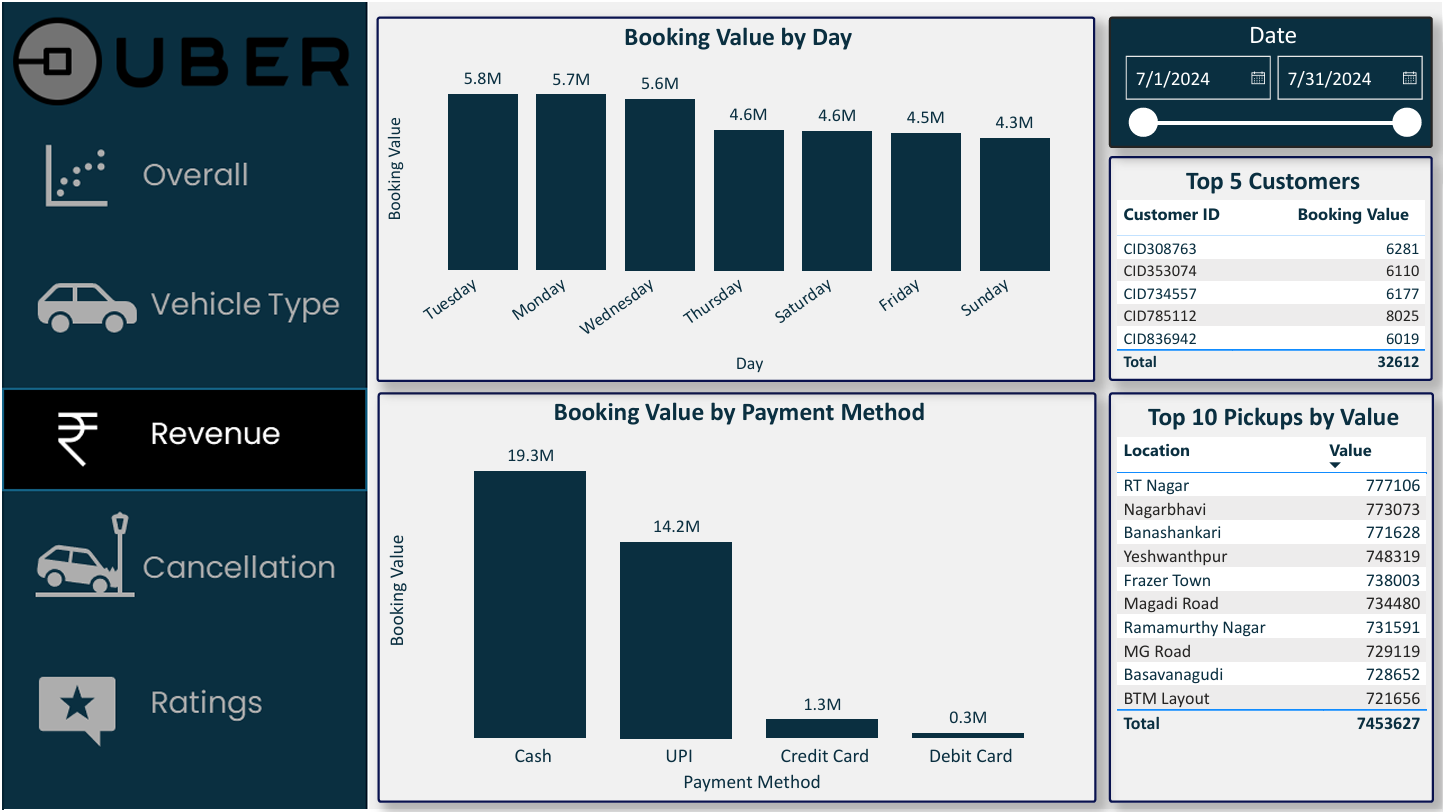

This screenshot's page, from the dashboard's own definition file:
{"tool":"powerbi","page":{"name":"Revenue","canvas":[1280,720],"ordinal":2},"visuals":[{"type":"actionButton","box":[0,108.4,322.5,89.2],"z":0},{"type":"actionButton","box":[0,236,322.5,89.2],"z":1000},{"type":"actionButton","box":[0,577.7,322.5,89.2],"z":2000},{"type":"actionButton","box":[0,447.3,322.5,89.2],"z":3000},{"type":"columnChart","title":"Booking Value by Payment Method","fields":{"Y":["Sum(Bookings.Booking_Value)"],"Category":["Bookings.Payment_Method"]},"box":[333,346.2,639.4,364.3],"z":4000},{"type":"columnChart","title":"Booking Value by Day","fields":{"Y":["Sum(Bookings.Booking_Value)"],"Category":["Bookings.DayName"]},"box":[331.8,12.1,639.4,324.5],"z":5000},{"type":"slicer","title":"Date ","fields":{"Values":["Bookings.Date"]},"box":[982.5,12.3,288.2,116.6],"z":6000},{"type":"tableEx","title":"Top 5 Customers","fields":{"Values":["Bookings.Customer_ID","Sum(Bookings.Booking_Value)"]},"box":[982.5,135.8,288.2,200.3],"z":7000},{"type":"tableEx","title":"Top 10 Pickups by Value","fields":{"Values":["Bookings.Pickup_Location","Sum(Bookings.Booking_Value)"]},"box":[983.2,346.2,288.3,364.3],"z":8000}]}

Visuals, with their boxes in screenshot pixels (x1, y1, x2, y2), scaled from the page's 1280x720 canvas onto the 1445x812 screenshot:
actionButton: BBox(0, 122, 364, 223)
actionButton: BBox(0, 266, 364, 367)
actionButton: BBox(0, 652, 364, 752)
actionButton: BBox(0, 504, 364, 605)
"Booking Value by Payment Method" columnChart: BBox(376, 390, 1098, 801)
"Booking Value by Day" columnChart: BBox(375, 14, 1096, 380)
"Date " slicer: BBox(1109, 14, 1435, 145)
"Top 5 Customers" tableEx: BBox(1109, 153, 1435, 379)
"Top 10 Pickups by Value" tableEx: BBox(1110, 390, 1435, 801)
